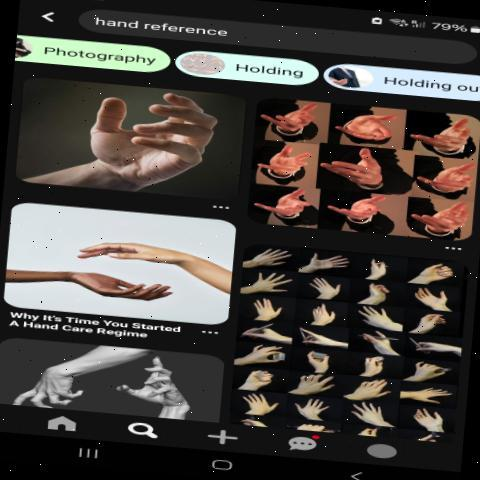Hands: (71, 81, 235, 190), (59, 215, 226, 273), (29, 254, 185, 313), (329, 192, 396, 232), (412, 194, 470, 239), (256, 183, 316, 223), (260, 138, 318, 179), (416, 115, 480, 152), (414, 154, 480, 189), (345, 108, 401, 147), (301, 248, 349, 282), (358, 303, 412, 333), (244, 266, 293, 298), (415, 282, 458, 312), (251, 246, 296, 272), (238, 390, 281, 416), (291, 398, 334, 422), (305, 302, 344, 325), (350, 377, 388, 400)
